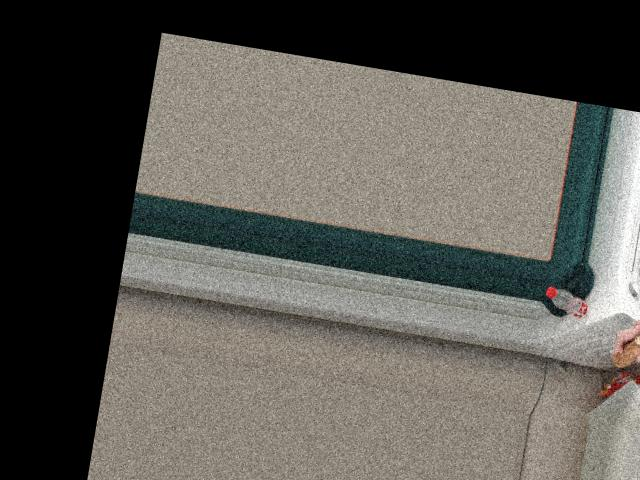sweet_potato: (607, 326, 640, 370)
